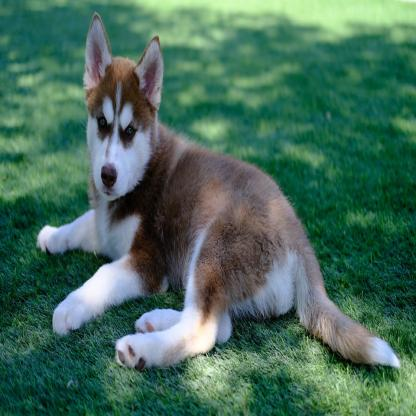dog: (38, 11, 401, 378)
